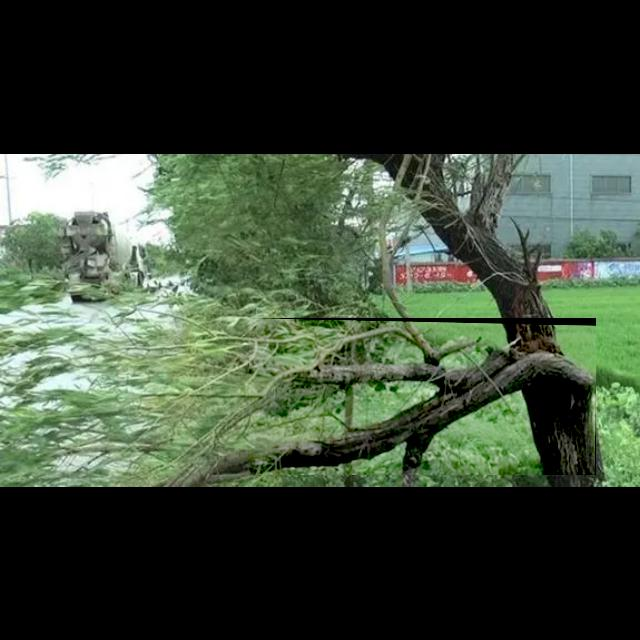Fallen Tree: (249, 318, 597, 476)
